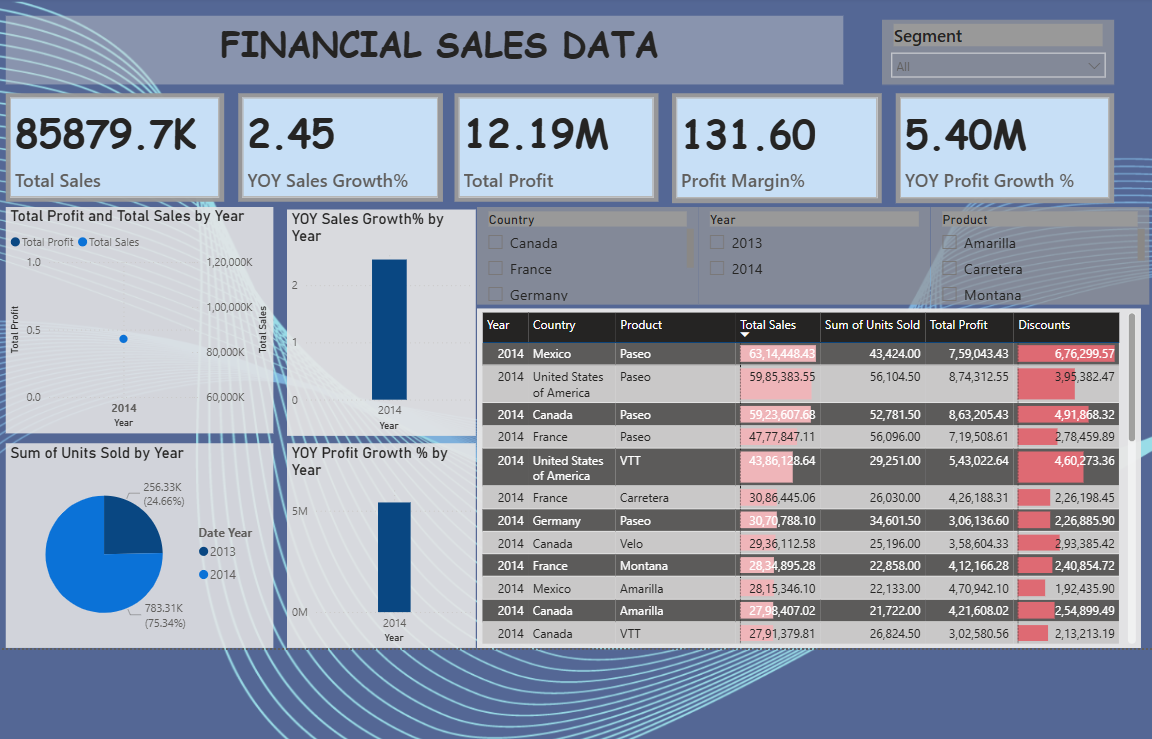

Layout of this report page (visuals, bound fields, positions):
{"tool":"powerbi","page":{"name":"Page 1","canvas":[1280,720],"ordinal":0},"visuals":[{"type":"textbox","box":[9.7,20.7,926.3,76],"z":0},{"type":"cardVisual","fields":{"Data":["Financials_Cleaned.Total Sales"]},"box":[9.7,106.5,242,120.3],"z":1000},{"type":"cardVisual","fields":{"Data":["Sum(Financials_Cleaned.Profit Margin%)"]},"box":[746.6,106.5,232.3,121.7],"z":2000},{"type":"cardVisual","fields":{"Data":["Financials_Cleaned.YOY Sales Growth%"]},"box":[266.8,106.5,226.7,120.3],"z":3000},{"type":"cardVisual","fields":{"Data":["Financials_Cleaned.Total Profit"]},"box":[506,106.5,225.4,120.3],"z":4000},{"type":"cardVisual","fields":{"Data":["Financials_Cleaned.YOY Profit Growth %"]},"box":[994.1,106.5,242,121.7],"z":5000},{"type":"slicer","fields":{"Values":["Financials_Cleaned.Segment"]},"box":[978.9,24.9,257.2,71.9],"z":6000},{"type":"slicer","fields":{"Values":["Financials_Cleaned.Country"]},"box":[530.9,232.3,244.7,107.8],"z":7000},{"type":"slicer","fields":{"Values":["Financials_Cleaned.Year"]},"box":[775.6,232.3,257.2,107.8],"z":8000},{"type":"slicer","fields":{"Values":["Financials_Cleaned.Product"]},"box":[1032.8,232.3,242,107.8],"z":9000},{"type":"lineChart","fields":{"Y":["Financials_Cleaned.Total Profit"],"Category":["DateTable.Date.Variation.Date Hierarchy.Year"],"Y2":["Financials_Cleaned.Total Sales"]},"box":[9.7,232.3,295.9,250.2],"z":10000},{"type":"clusteredColumnChart","fields":{"Y":["Financials_Cleaned.YOY Profit Growth %"],"Category":["DateTable.Date.Variation.Date Hierarchy.Year"]},"box":[320.8,493.6,208.8,226.7],"z":11000},{"type":"clusteredColumnChart","fields":{"Y":["Financials_Cleaned.YOY Sales Growth%"],"Category":["DateTable.Date.Variation.Date Hierarchy.Year"]},"box":[320.8,235,208.8,250.2],"z":12000},{"type":"pieChart","fields":{"Y":["Sum(Financials_Cleaned.Units Sold)"],"Category":["DateTable.Date.Variation.Date Hierarchy.Year"]},"box":[9.7,493.6,295.9,226.7],"z":12001},{"type":"tableEx","fields":{"Values":["DateTable.Date.Variation.Date Hierarchy.Year","Financials_Cleaned.Country","Financials_Cleaned.Product","Financials_Cleaned.Total Sales","Sum(Financials_Cleaned.Units Sold)","Financials_Cleaned.Total Profit","Sum(Financials_Cleaned.Discounts)"]},"box":[530.9,344.3,734.2,376.1],"z":12002}]}

Visuals, with their boxes in screenshot pixels (x1, y1, x2, y2):
textbox: [9,21,831,89]
cardVisual - Financials_Cleaned.Total Sales: [9,98,223,204]
cardVisual - Sum(Financials_Cleaned.Profit Margin%): [663,98,869,206]
cardVisual - Financials_Cleaned.YOY Sales Growth%: [237,98,438,204]
cardVisual - Financials_Cleaned.Total Profit: [449,98,649,204]
cardVisual - Financials_Cleaned.YOY Profit Growth %: [882,98,1097,206]
slicer - Financials_Cleaned.Segment: [869,25,1097,89]
slicer - Financials_Cleaned.Country: [471,209,688,305]
slicer - Financials_Cleaned.Year: [688,209,917,305]
slicer - Financials_Cleaned.Product: [917,209,1131,305]
lineChart - Financials_Cleaned.Total Profit x DateTable.Date.Variation.Date Hierarchy.Year: [9,209,271,431]
clusteredColumnChart - Financials_Cleaned.YOY Profit Growth % x DateTable.Date.Variation.Date Hierarchy.Year: [285,441,470,642]
clusteredColumnChart - Financials_Cleaned.YOY Sales Growth% x DateTable.Date.Variation.Date Hierarchy.Year: [285,212,470,434]
pieChart - Sum(Financials_Cleaned.Units Sold) x DateTable.Date.Variation.Date Hierarchy.Year: [9,441,271,642]
tableEx - DateTable.Date.Variation.Date Hierarchy.Year x Financials_Cleaned.Country: [471,309,1123,642]
